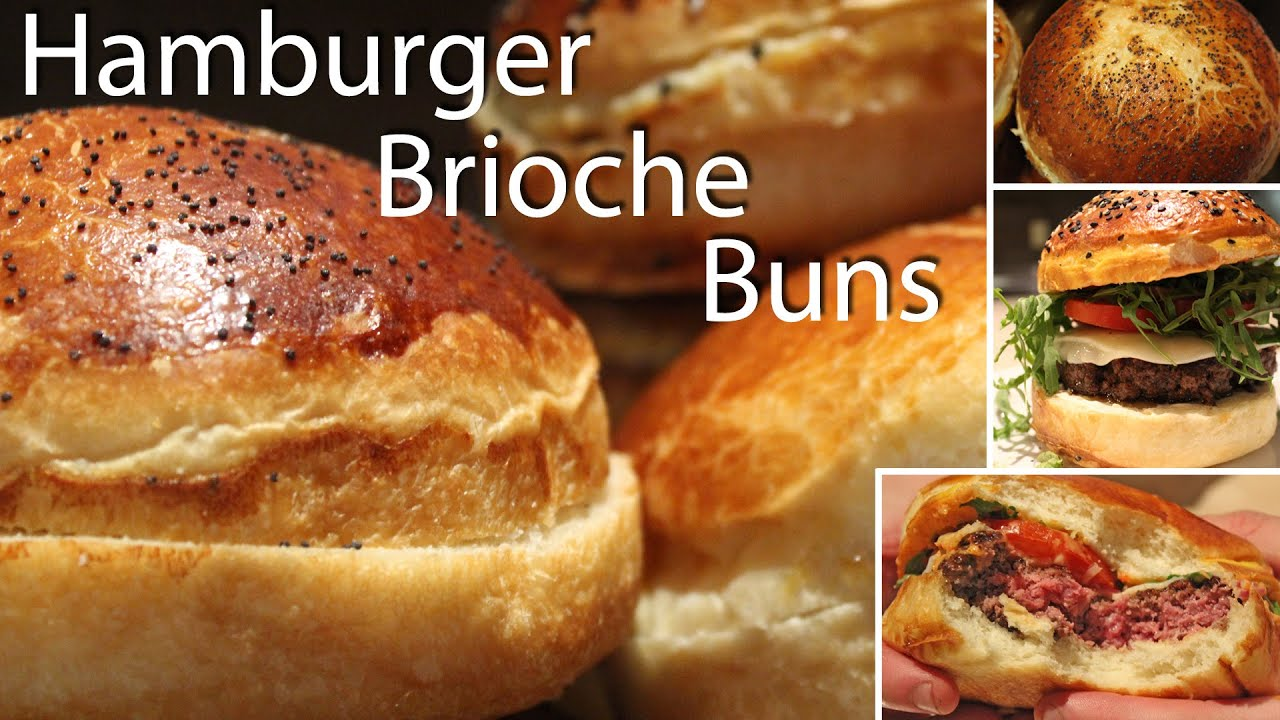hamburger_buns: (1, 146, 663, 697), (896, 488, 1263, 703), (1021, 198, 1280, 459), (1007, 4, 1280, 156)
